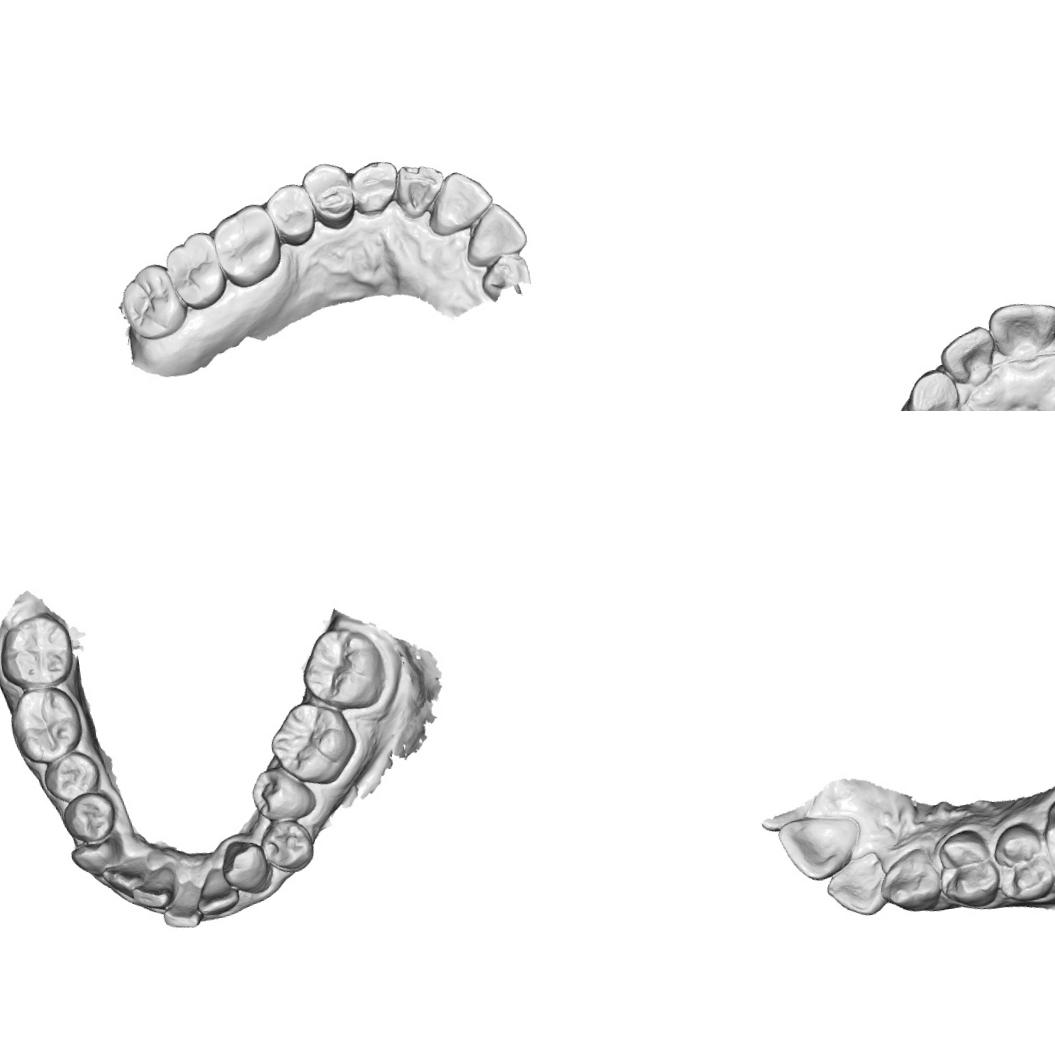canine: (872, 843, 951, 919), (217, 834, 275, 900), (348, 156, 407, 220), (901, 366, 967, 411), (68, 835, 126, 879)
incisor: (774, 808, 866, 887), (425, 165, 500, 237), (459, 196, 531, 268), (984, 294, 1055, 367), (822, 855, 892, 922), (934, 321, 1000, 392), (390, 158, 452, 224), (127, 863, 182, 918), (191, 863, 244, 918), (158, 876, 206, 933), (99, 853, 154, 898)
molar: (264, 694, 364, 792), (295, 620, 392, 717), (206, 200, 288, 292), (4, 682, 88, 768), (0, 607, 79, 694), (158, 228, 230, 316), (115, 260, 188, 344)
premolar: (932, 826, 1002, 912), (989, 817, 1055, 906), (297, 158, 361, 235), (246, 762, 320, 827), (261, 178, 321, 252), (38, 748, 104, 805), (59, 788, 121, 848), (256, 816, 318, 876)
